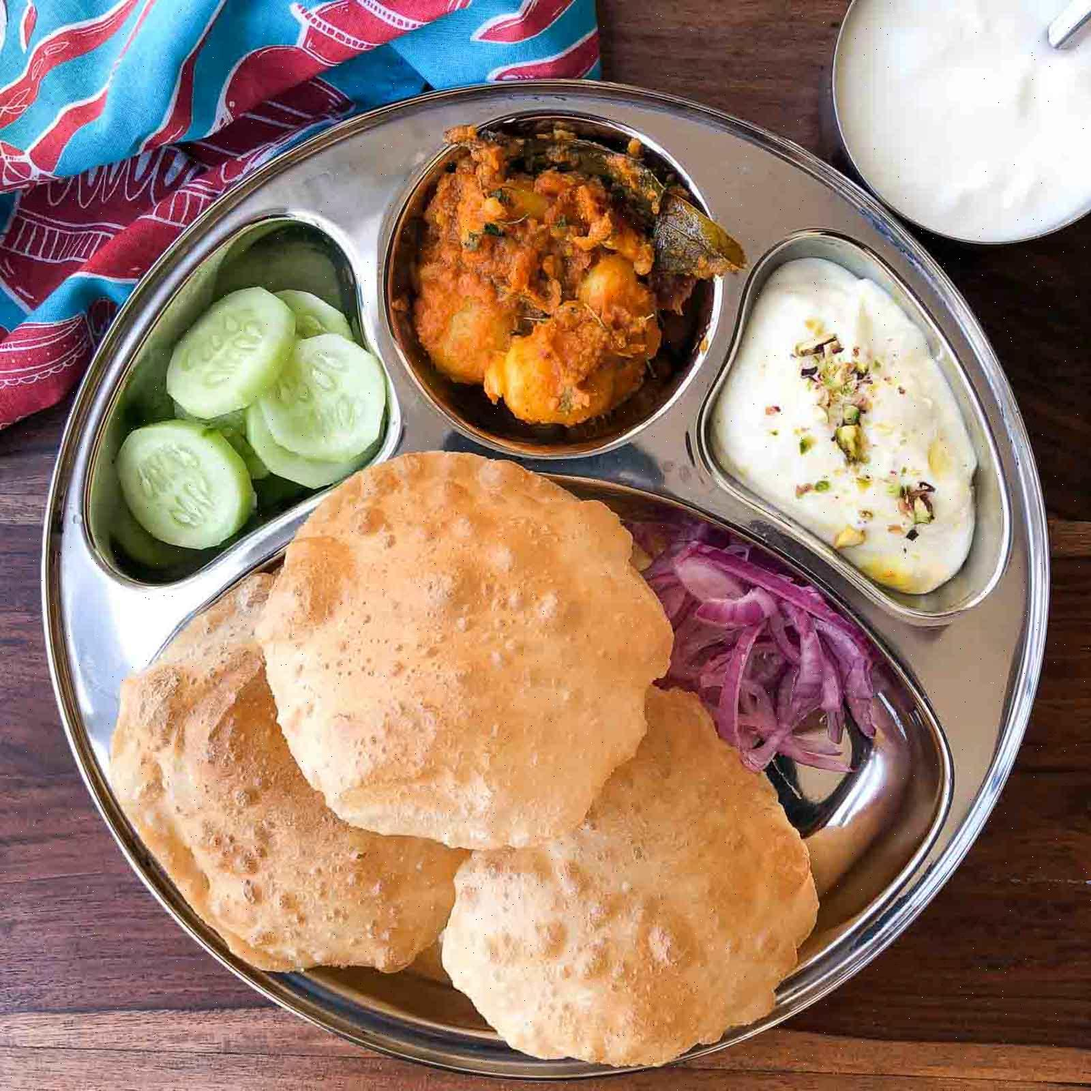puri: (106, 576, 682, 1091)
